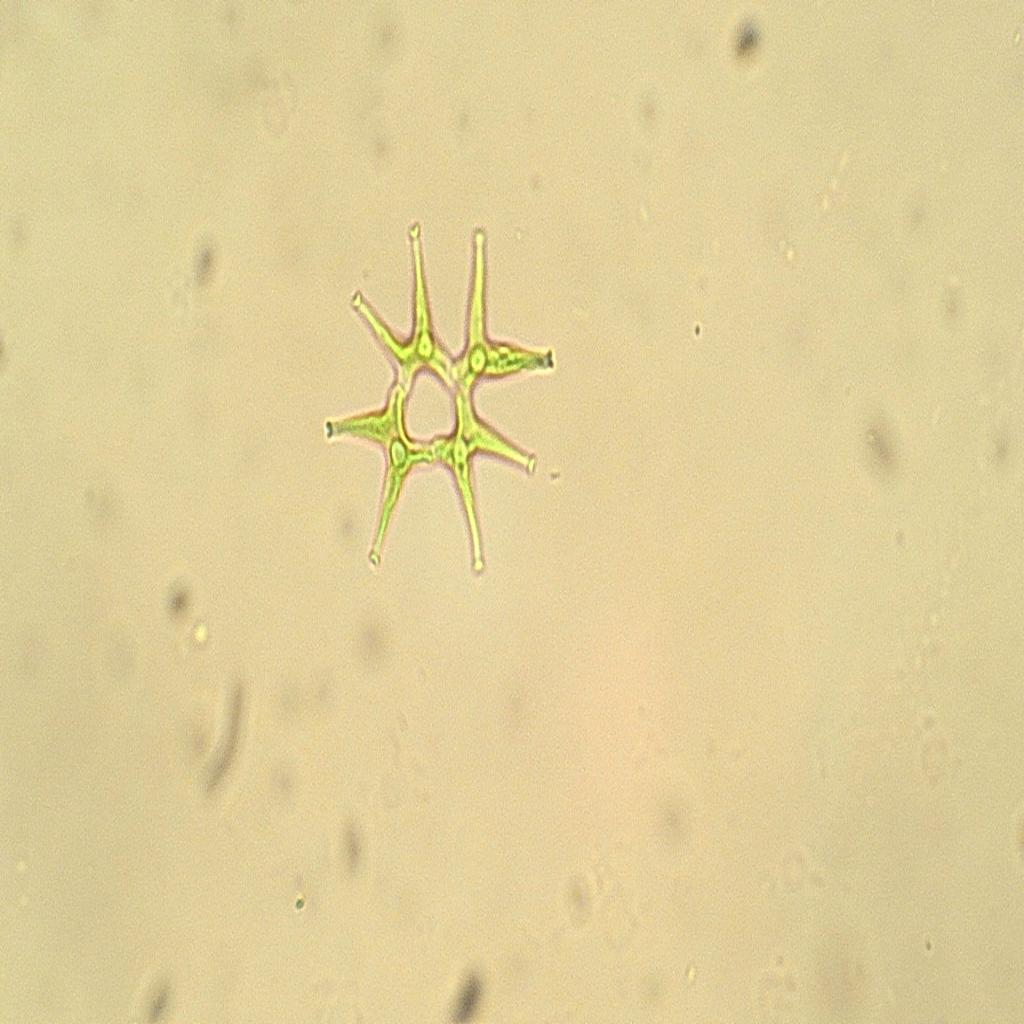Pediastrum_CT: (298, 192, 572, 612)
